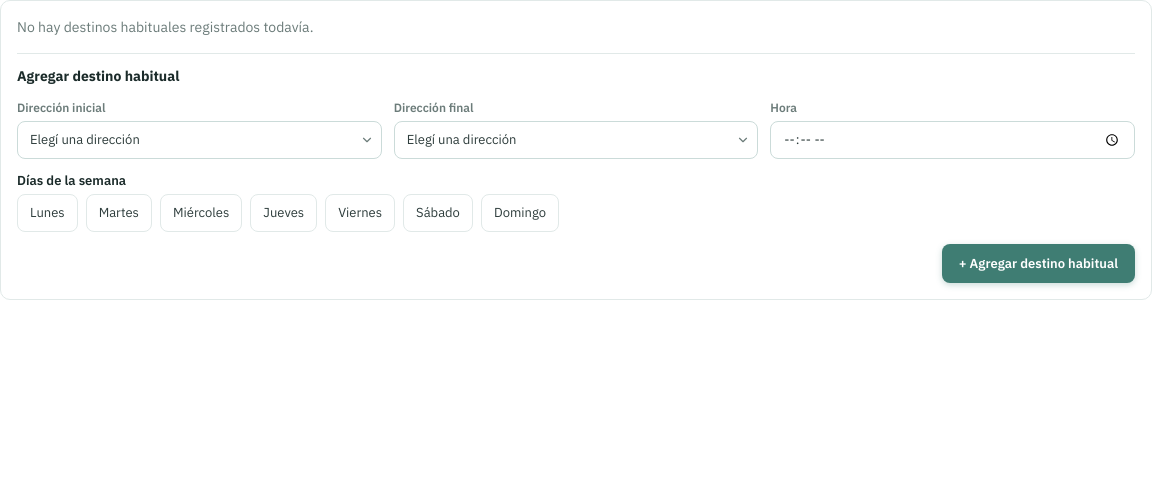
it: RecorridosHabitualesEditor › alta con varios días: crea un destino por día, en orden de la semana
Expected: the text "No hay destinos habituales registrados todavía." is shown, [17, 18, 314, 36]
Select "Domicilio · Av. Siempreviva 742" in the dropdown labelled "Dirección inicial". click: point(199, 140)
box: [17, 121, 382, 158]
Select "Escuela · Belgrano 100" in the dropdown labelled "Dirección final". click: point(576, 140)
box: [394, 121, 758, 158]
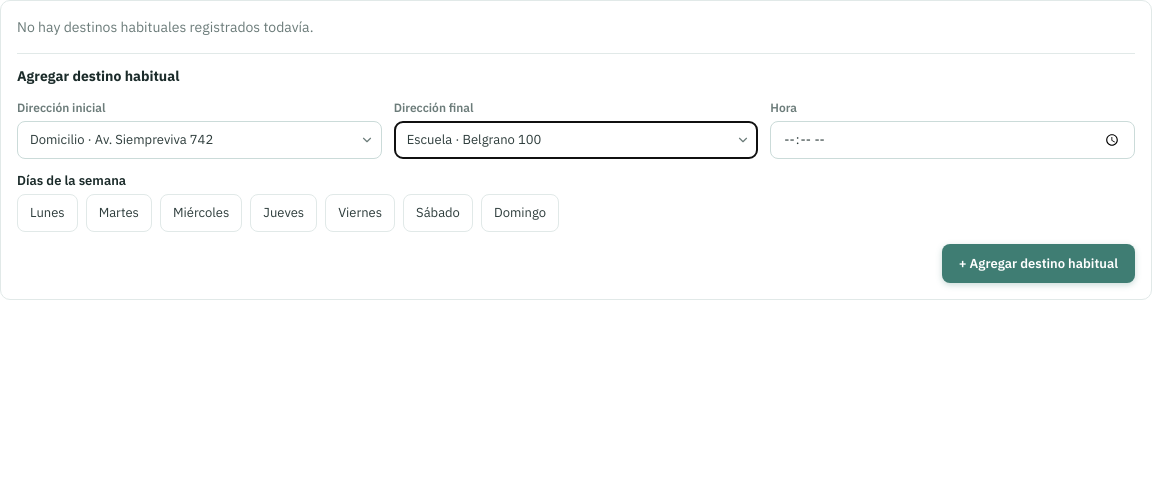
Click the checkbox labelled "Viernes". click: point(360, 213)
box: [325, 194, 395, 232]
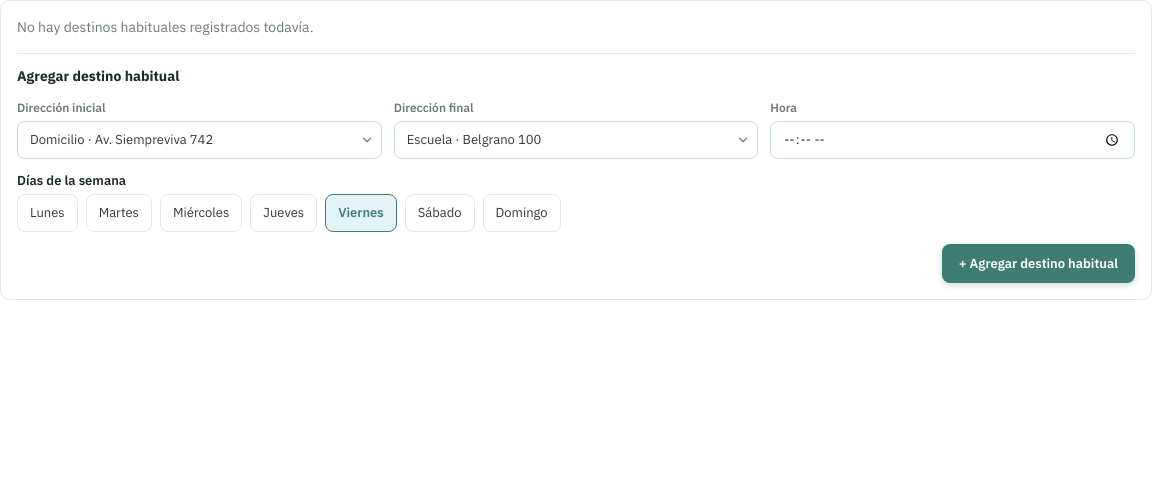
Click the checkbox labelled "Lunes". click: point(47, 213)
box: [17, 194, 78, 232]
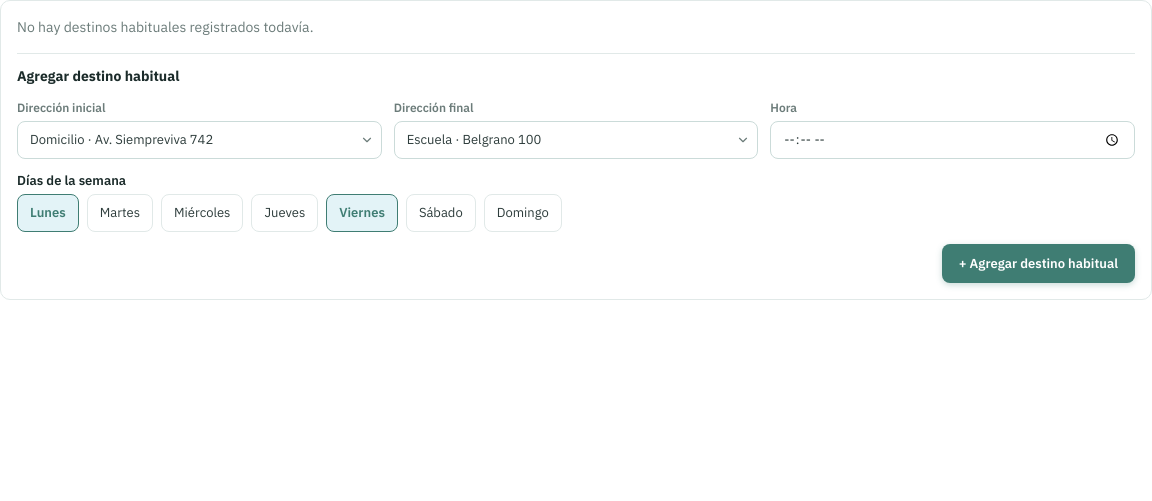
Click the checkbox labelled "Miércoles". click: point(202, 213)
box: [161, 194, 243, 232]
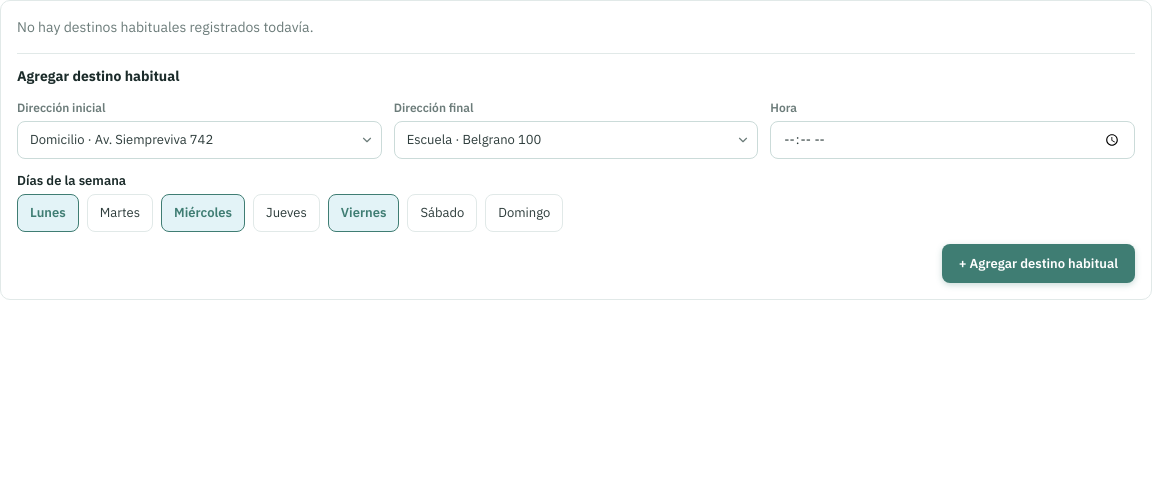
Type "08:00" into the time field labelled "Hora". click: point(953, 140)
box: [770, 121, 1135, 159]
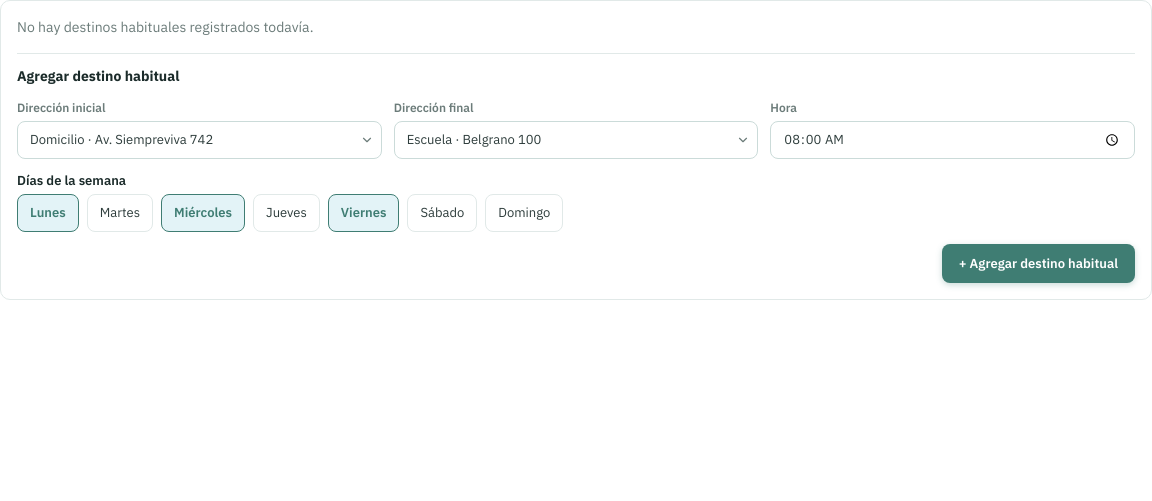
Click the button "+ Agregar destino habitual". click: point(1038, 263)
box: [942, 244, 1135, 283]
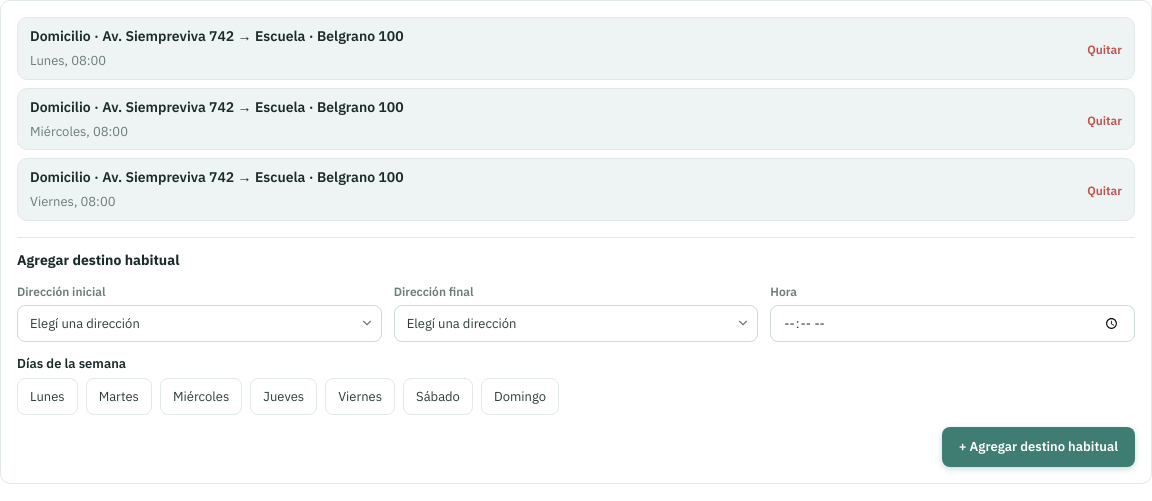
Expected: the text "Lunes, 08:00" is shown, [30, 52, 106, 69]
Expected: the text "Miércoles, 08:00" is shown, [30, 122, 128, 140]
Expected: the text "Viernes, 08:00" is shown, [30, 193, 116, 210]
